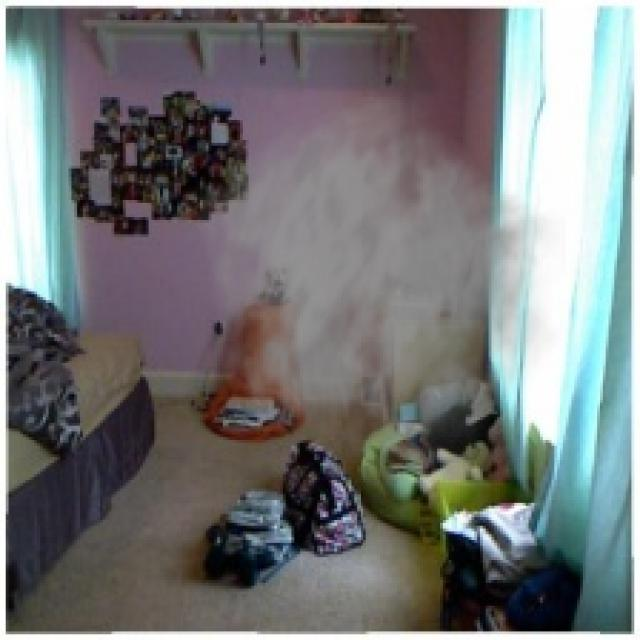smoke: (194, 94, 566, 492)
